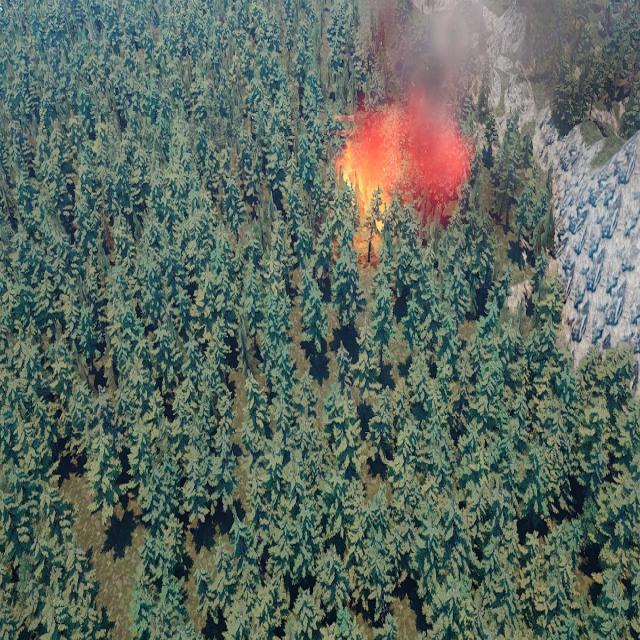fire: (336, 140, 379, 248)
smoke: (347, 0, 640, 231)
